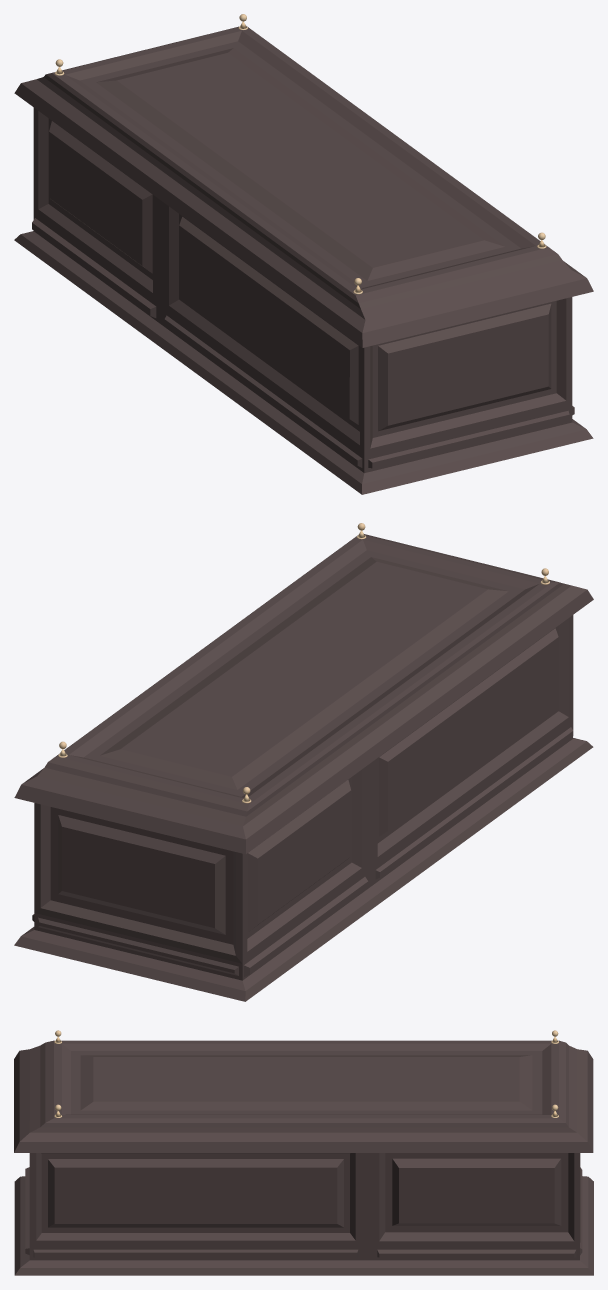
Rendered from Casket.fbx.
3 views of the same model, one above another, from view 1: azimuth 30°, elevation 25°; view 2: azimuth 150°, elevation 25°; view 3: azimuth 270°, elevation 25° (orthographic). The views are drawn at different scales.
Parts seen in each view (by area): view 1: Cube.001, Cube; view 2: Cube.001, Cube; view 3: Cube, Cube.001.
Boxes of the visible parts, x1,y1,x2,y2 form: Cube.001: [14, 26, 593, 347]; Cube: [14, 107, 593, 494]; Cube.001: [14, 534, 593, 854]; Cube: [14, 615, 593, 1001]; Cube: [14, 1153, 593, 1275]; Cube.001: [14, 1040, 593, 1152].
Size of the model in its own units: 321 by 255 by 837.
Materials: 2 (1 with a texture image).
